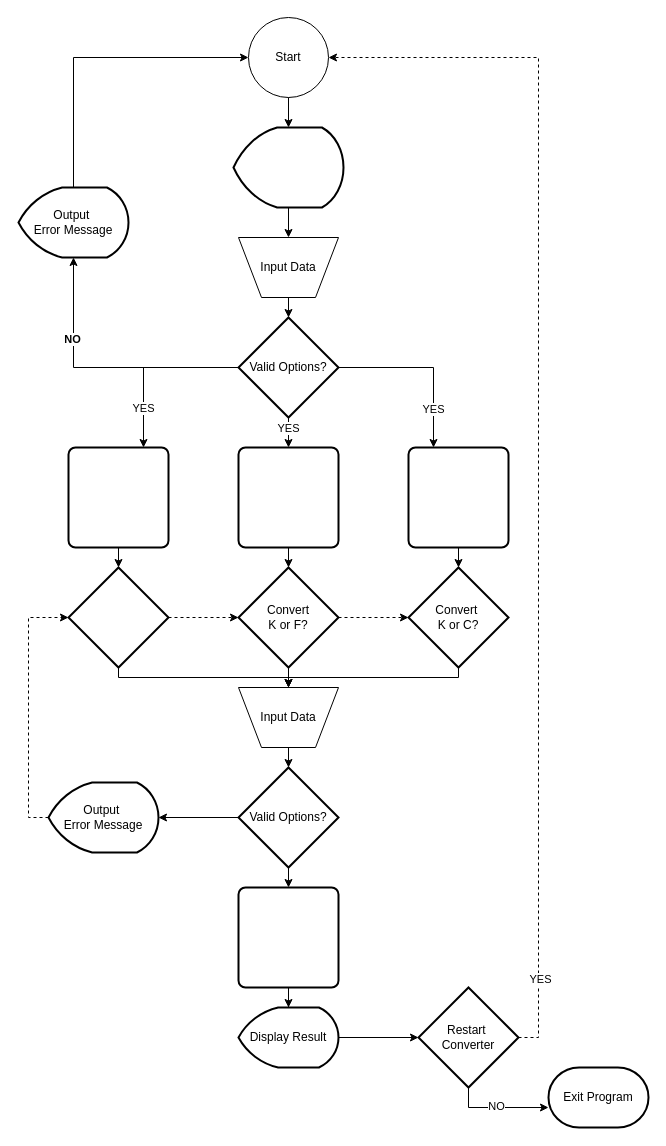
Image size: 666x1146. Some labels were removed from this diagram. The shapes that lost their labels are listed below. From the top down, each one's box as (x1, y1, x2, y2) in pixels, then its label:
(232, 126, 344, 208): Output Options
(67, 446, 169, 548): Option 1: Kelvin
(237, 446, 339, 548): Option 2: Celsius
(407, 446, 509, 548): Option 3: Fahrenheit
(67, 566, 169, 668): Convert C or F?
(237, 886, 339, 988): Process Conversion
